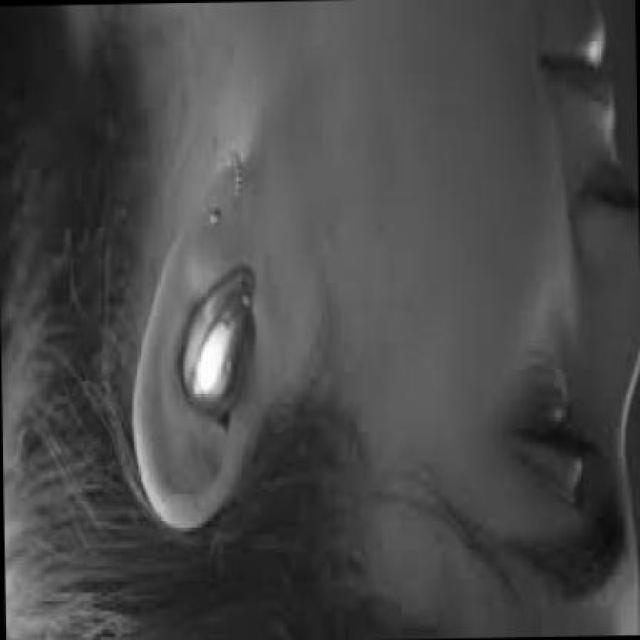earphone: (149, 230, 306, 496)
